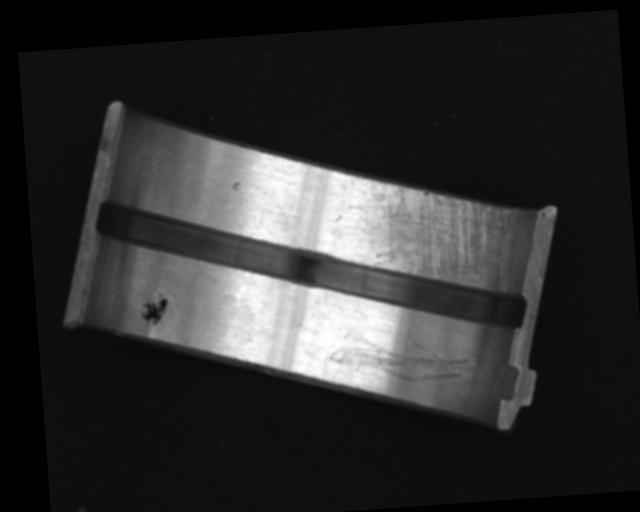blot: (138, 291, 169, 327)
bruise: (230, 180, 242, 193)
gap: (89, 170, 530, 357)
nick: (325, 325, 474, 391)
scratch: (344, 162, 524, 303)
